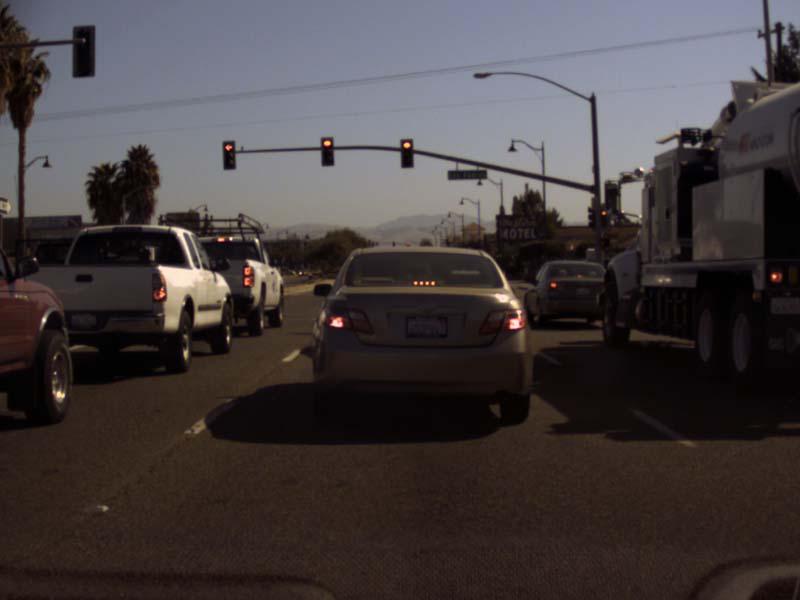Red: (221, 139, 235, 169), (321, 136, 334, 167), (401, 137, 414, 168), (600, 205, 608, 227)
